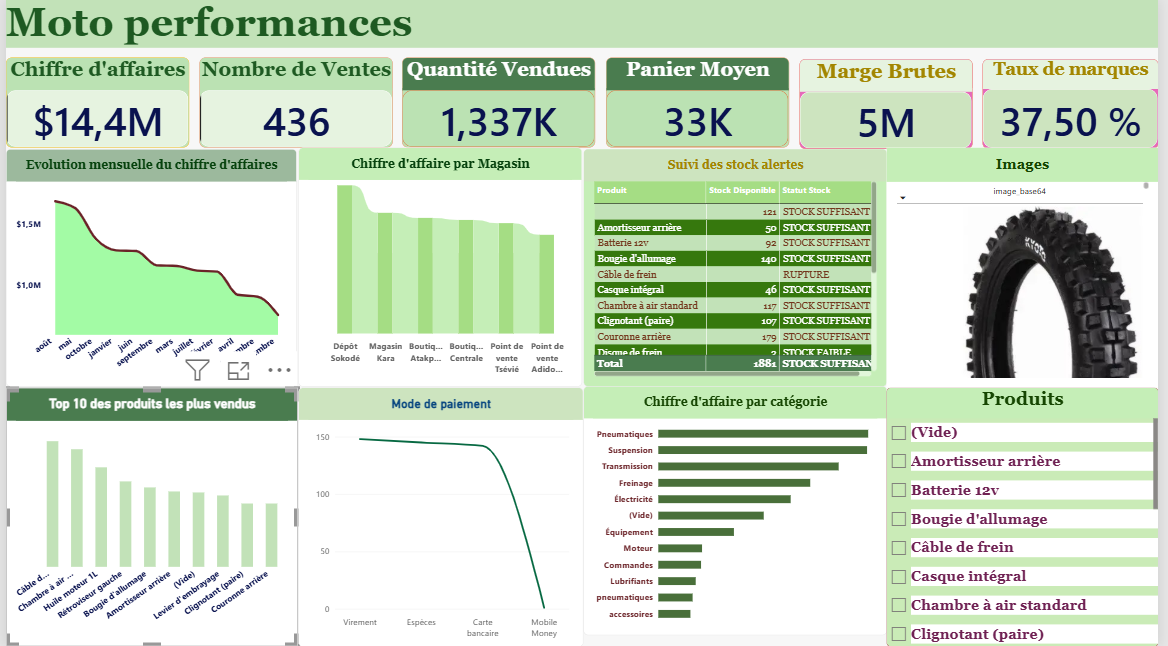

What the dashboard file says about the page in this screenshot:
{"tool":"powerbi","page":{"name":"Page 1","canvas":[1920,1080],"ordinal":0},"visuals":[{"type":"shape","title":"Moto performances","box":[0,0,1920.7,81.1],"z":0},{"type":"cardVisual","title":"Chiffre  d''affaires","fields":{"Data":["Ventes_Brutes1.Chiffre_affaire"]},"box":[0,97.8,305.4,150.3],"z":1000},{"type":"cardVisual","title":"Nombre de Ventes","fields":{"Data":["Ventes_Brutes1.Nombre_de_ventes"]},"box":[322.1,97.8,322.1,150.3],"z":2000},{"type":"cardVisual","title":"Quantité Vendues","fields":{"Data":["Ventes_Brutes1.Quantite_vendu"]},"box":[660.9,97.8,322.1,150.3],"z":3000},{"type":"cardVisual","title":"Marge Brutes","fields":{"Data":["Calendrier.Marge"]},"box":[1321.8,100.2,288.7,150.3],"z":4000},{"type":"cardVisual","title":"Panier Moyen","fields":{"Data":["Ventes_Brutes1.Panier_moyen"]},"box":[999.7,97.8,305.4,150.3],"z":5000},{"type":"cardVisual","title":"Taux de marques","fields":{"Data":["Stock_Brut2.taux_marge"]},"box":[1627.2,100.2,293.5,150.3],"z":6000},{"type":"areaChart","title":"Evolution mensuelle du chiffre d''affaires","fields":{"Category":["Calendrier.Mois"],"Y":["Ventes_Brutes1.Chiffre_affaire"]},"box":[0,250.5,484.3,396.1],"z":7000},{"type":"clusteredBarChart","title":"Chiffre d''affaire par catégorie","fields":{"Category":["Produits_Bruts3.Categorie"],"Y":["Ventes_Brutes1.Chiffre_affaire"]},"box":[962,646,505.8,415.1],"z":8000},{"type":"clusteredColumnChart","title":"Top 10 des produits les plus vendus","fields":{"Category":["Produits_Bruts3.Nom_Produit"],"Y":["Ventes_Brutes1.Quantite_vendu"]},"box":[0,646.6,486.7,434.2],"z":9000},{"type":"lineChart","title":"Mode de paiement","fields":{"Category":["Ventes_Brutes1.Mode_Paiement"],"Y":["CountNonNull(Ventes_Brutes1.Mode_Paiement)"]},"box":[486.7,646.6,474.8,434.2],"z":10000},{"type":"ribbonChart","title":"Chiffre d''affaire par Magasin","fields":{"Category":["Magasins_Bruts4.Nom_Magasin"],"Y":["Ventes_Brutes1.Chiffre_affaire"]},"box":[486.7,248.1,472.4,398.4],"z":11000},{"type":"tableEx","title":"Suivi des stock alertes","fields":{"Values":["Produits_Bruts3.Nom_Produit","Sum(Stock_Brut2.Stock_Disponible)","Calendrier.Statut_Stock"]},"box":[961.5,250.5,505.8,396.1],"z":12000},{"type":"tableEx","title":"Images","fields":{"Values":["iloveimg-convert.image_base64"]},"box":[1467.3,248.1,453.3,398.4],"z":13000},{"type":"slicer","title":"Produits","fields":{"Values":["Produits_Bruts3.Nom_Produit"]},"box":[1467.3,646.6,453.3,434.2],"z":14000}]}

Visuals, with their boxes in screenshot pixels (x1, y1, x2, y2), scaled from the page's 1920x1080 canvas onto the 1168x646 screenshot:
"Moto performances" shape: BBox(0, 0, 1167, 49)
"Chiffre  d''affaires" cardVisual: BBox(0, 58, 186, 148)
"Nombre de Ventes" cardVisual: BBox(196, 58, 392, 148)
"Quantité Vendues" cardVisual: BBox(402, 58, 598, 148)
"Marge Brutes" cardVisual: BBox(804, 60, 980, 150)
"Panier Moyen" cardVisual: BBox(608, 58, 794, 148)
"Taux de marques" cardVisual: BBox(990, 60, 1167, 150)
"Evolution mensuelle du chiffre d''affaires" areaChart: BBox(0, 150, 295, 387)
"Chiffre d''affaire par catégorie" clusteredBarChart: BBox(585, 386, 893, 635)
"Top 10 des produits les plus vendus" clusteredColumnChart: BBox(0, 387, 296, 645)
"Mode de paiement" lineChart: BBox(296, 387, 585, 645)
"Chiffre d''affaire par Magasin" ribbonChart: BBox(296, 148, 583, 387)
"Suivi des stock alertes" tableEx: BBox(585, 150, 893, 387)
"Images" tableEx: BBox(893, 148, 1167, 387)
"Produits" slicer: BBox(893, 387, 1167, 645)
